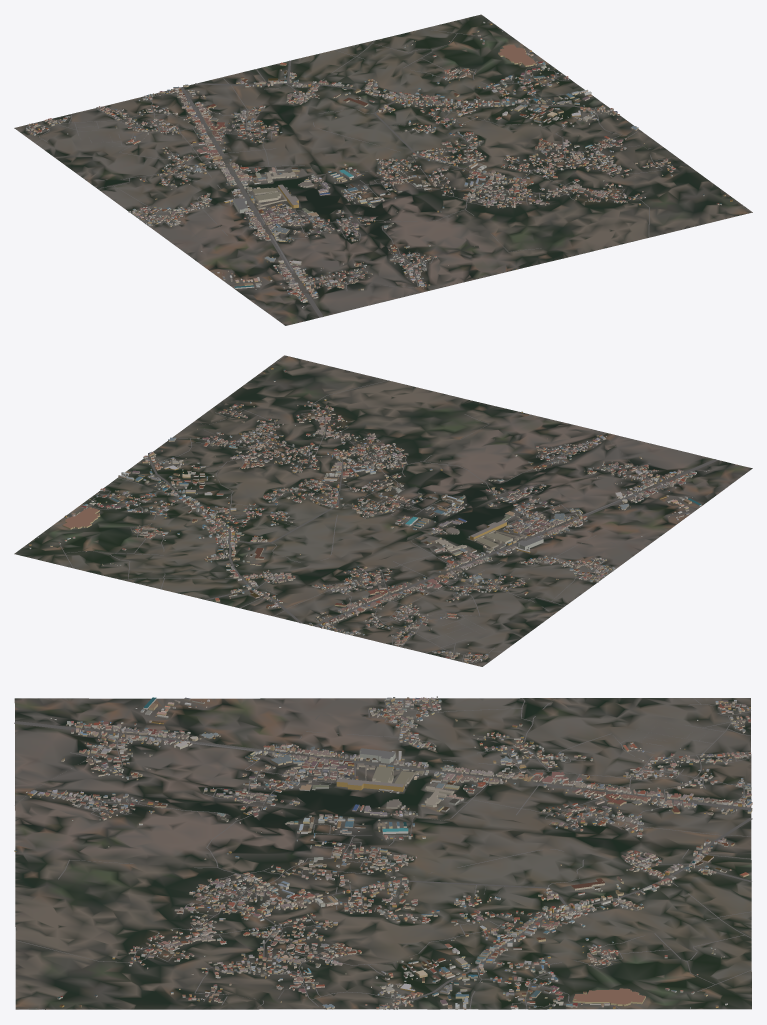
3 views of the same model, one above another, from view 1: azimuth 30°, elevation 25°; view 2: azimuth 150°, elevation 25°; view 3: azimuth 270°, elevation 25° (orthographic). The views are drawn at different scales.
Parts seen in each view (by area): view 1: ground, buildings, roads; view 2: ground, buildings, roads; view 3: ground, buildings, roads.
Boxes of the visible parts, bbox=[...] form: ground: bbox=[14, 14, 752, 325]; buildings: bbox=[26, 21, 732, 308]; roads: bbox=[26, 29, 751, 317]; ground: bbox=[14, 355, 752, 666]; buildings: bbox=[29, 367, 709, 663]; roads: bbox=[60, 355, 717, 663]; ground: bbox=[14, 698, 751, 1009]; buildings: bbox=[14, 696, 752, 1009]; roads: bbox=[14, 698, 752, 1009].
Size of the model in its own units: 2804 by 25.94 by 2814.
